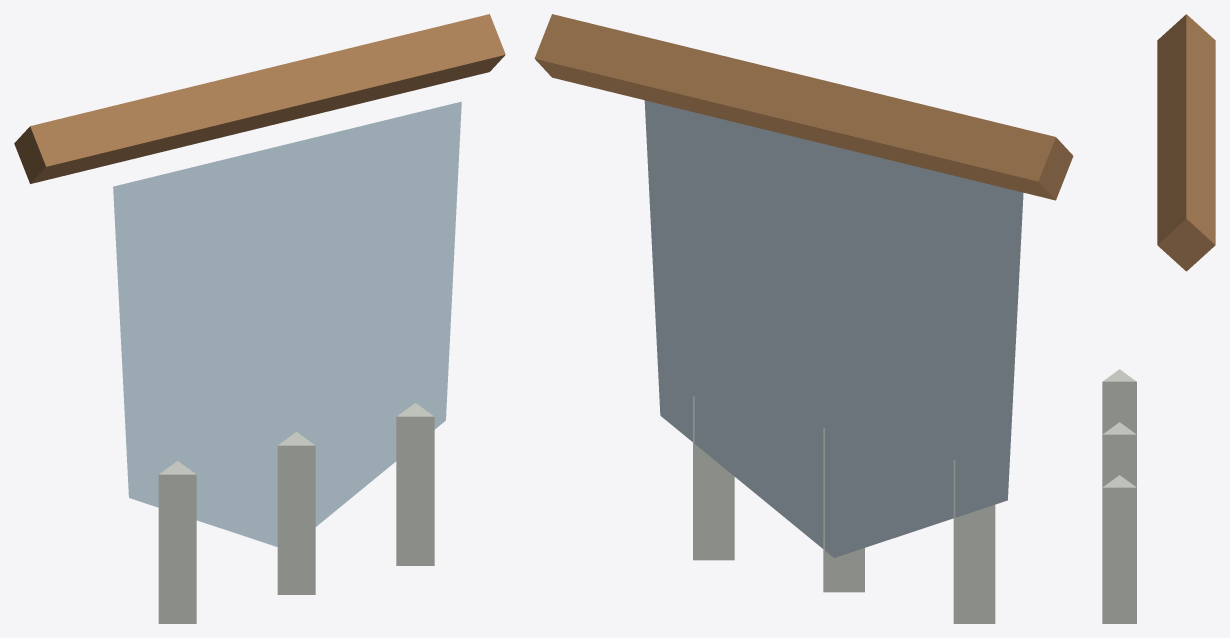
Rendered from Tundra_Ornament.fbx.
The picture shows the model from 3 angles, left to right: view 1: azimuth 30°, elevation 25°; view 2: azimuth 150°, elevation 25°; view 3: azimuth 270°, elevation 25°; orthographic projection. The views are drawn at different scales.
Visible parts, largest first — view 1: Tundra_Ornament; view 2: Tundra_Ornament; view 3: Tundra_Ornament.
Boxes of the visible parts, x1=… form: Tundra_Ornament: x1=14, y1=14, x2=505, y2=623; Tundra_Ornament: x1=534, y1=14, x2=1073, y2=623; Tundra_Ornament: x1=1102, y1=14, x2=1215, y2=623.
Size of the model in its own units: 58 by 59.5 by 13.58.
